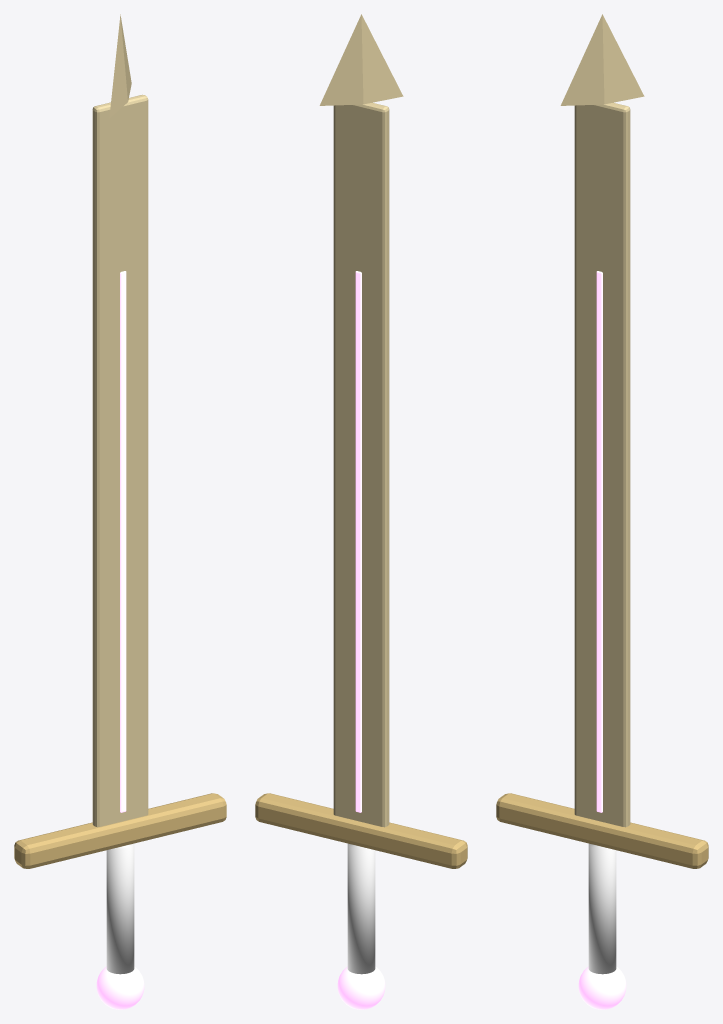
Rendered from kilic_4.glb.
3 views of the same model, side by side, from view 1: azimuth 30°, elevation 25°; view 2: azimuth 150°, elevation 25°; view 3: azimuth 330°, elevation 25° (orthographic).
Visible parts, largest first — view 1: Cube, Cube.002, Cube.001, Cone.001, Sphere, Cone; view 2: Cube, Cube.002, Cone, Cube.001, Cone.001, Sphere; view 3: Cube, Cube.002, Cone, Cube.001, Cone.001, Sphere.
Part boxes in pixels (box(x1,y1,x2,y2)): Cube: box(92, 94, 148, 827); Cube.002: box(14, 793, 226, 868); Cube.001: box(120, 271, 126, 812); Cone.001: box(106, 843, 134, 974); Sphere: box(96, 966, 144, 1009); Cone: box(109, 14, 131, 118); Cube: box(333, 102, 389, 827); Cube.002: box(255, 793, 467, 868); Cone: box(319, 14, 403, 105); Cube.001: box(355, 271, 361, 812); Cone.001: box(347, 843, 375, 974); Sphere: box(337, 966, 385, 1009); Cube: box(574, 102, 630, 827); Cube.002: box(496, 793, 708, 868); Cone: box(560, 14, 644, 105); Cube.001: box(596, 271, 602, 812); Cone.001: box(588, 843, 616, 974); Sphere: box(578, 966, 626, 1009).
Size of the model in its own units: 0.54 by 2.51 by 0.1406.
